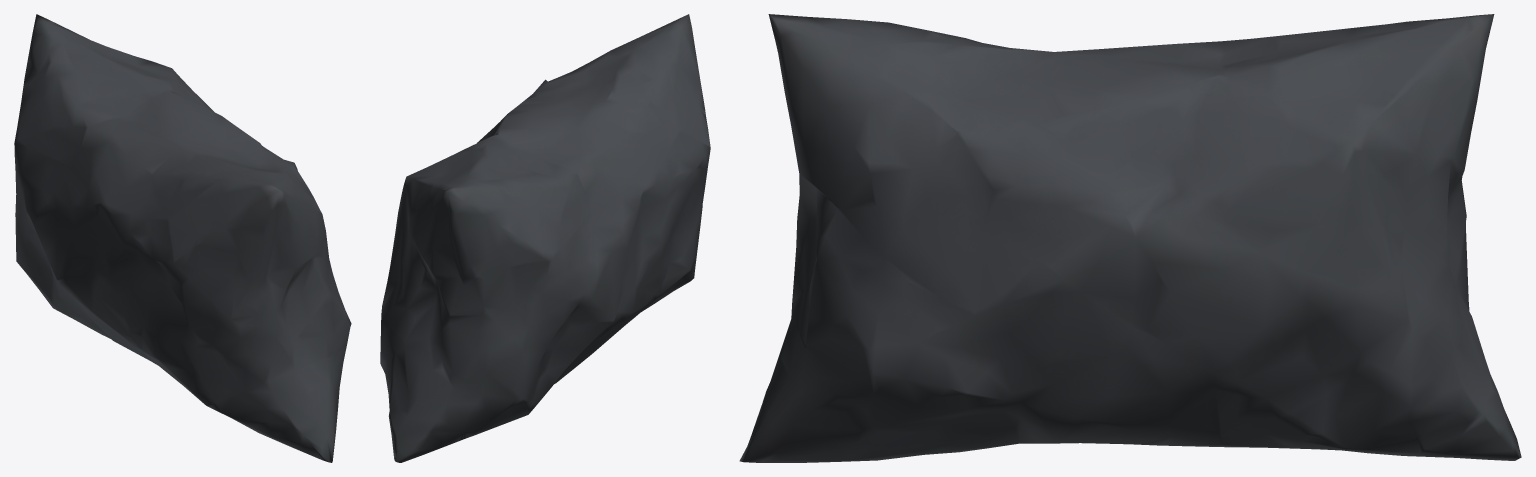
File: geometric+pillow+3d+model.glb
The picture shows the model from 3 angles, left to right: view 1: azimuth 30°, elevation 25°; view 2: azimuth 150°, elevation 25°; view 3: azimuth 270°, elevation 25°; orthographic projection. The views are drawn at different scales.
Parts seen in each view (by area): view 1: tripo_node_e448e49c-bb81-40ea-b083-5a72d0538dfd; view 2: tripo_node_e448e49c-bb81-40ea-b083-5a72d0538dfd; view 3: tripo_node_e448e49c-bb81-40ea-b083-5a72d0538dfd.
Boxes of the visible parts, x1=… form: tripo_node_e448e49c-bb81-40ea-b083-5a72d0538dfd: x1=14, y1=14, x2=351, y2=462; tripo_node_e448e49c-bb81-40ea-b083-5a72d0538dfd: x1=380, y1=14, x2=710, y2=462; tripo_node_e448e49c-bb81-40ea-b083-5a72d0538dfd: x1=739, y1=14, x2=1521, y2=462.
Size of the model in its own units: 0.4279 by 0.5868 by 1.
Materials: 1 (1 with a texture image).
